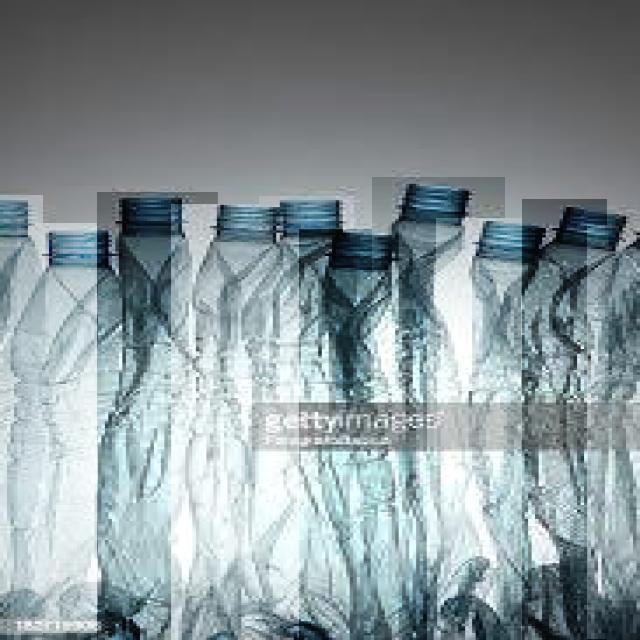defected: (522, 199, 607, 640), (436, 218, 578, 387), (587, 225, 640, 639), (372, 177, 505, 309)
good: (97, 192, 218, 640), (299, 229, 427, 640), (17, 223, 144, 633), (171, 204, 285, 640), (260, 196, 355, 640), (0, 195, 43, 635)
